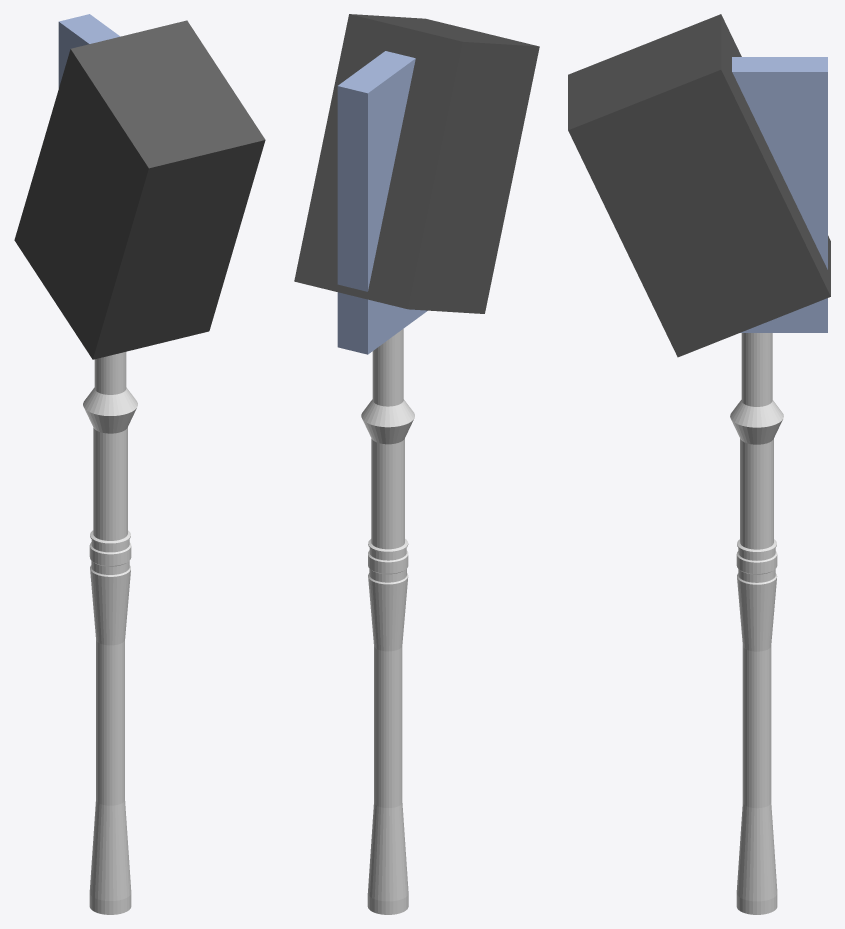
The model's file is Martillo.fbx.
3 renders of one model, left to right at view 1: azimuth 30°, elevation 25°; view 2: azimuth 150°, elevation 25°; view 3: azimuth 270°, elevation 25°, orthographic. The views are drawn at different scales.
Visible parts, largest first — view 1: Cylinder; view 2: Cylinder; view 3: Cylinder.
Boxes of the visible parts, x1,y1,x2,y2 form: Cylinder: (14, 14, 265, 914); Cylinder: (294, 14, 539, 914); Cylinder: (568, 14, 830, 914).
Bounding box in the file's own units: 46.24 × 335 × 92.39.
